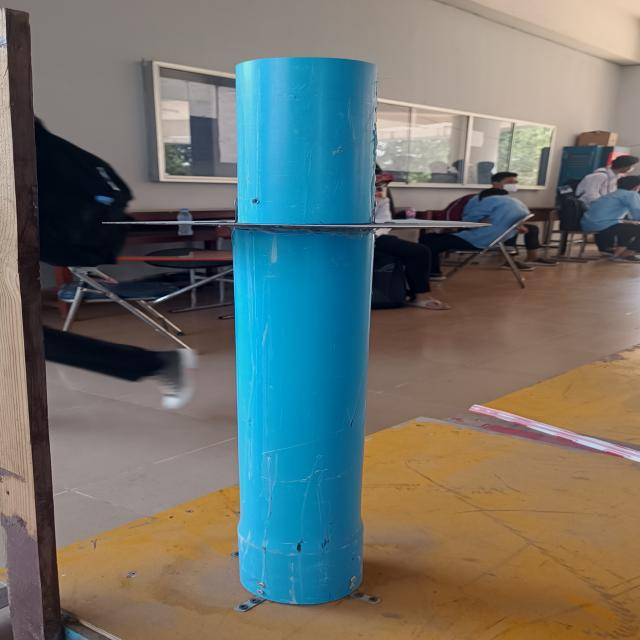pole: (118, 48, 490, 394)
